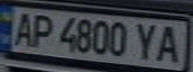0: (109, 19, 133, 57), (90, 18, 112, 56)
4: (54, 15, 78, 52)
8: (72, 16, 93, 54)
A: (151, 21, 187, 64), (6, 9, 39, 47)
P: (27, 11, 57, 50)
Y: (130, 20, 163, 62)
